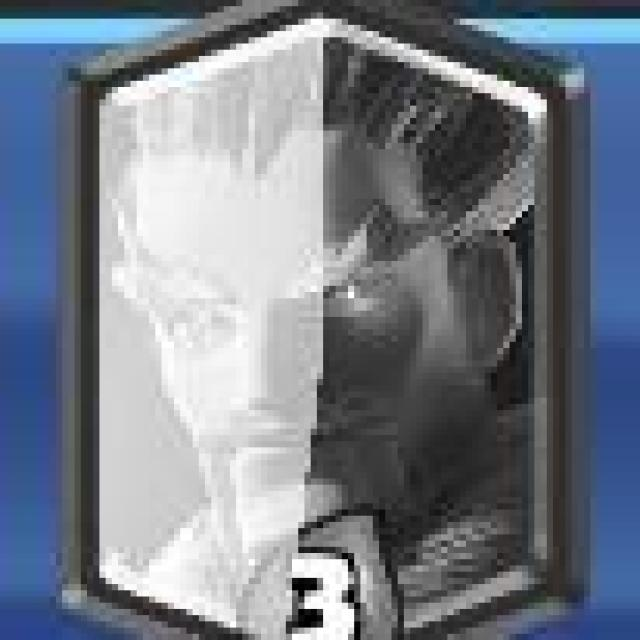Ice_Wizard: (79, 2, 577, 639)
